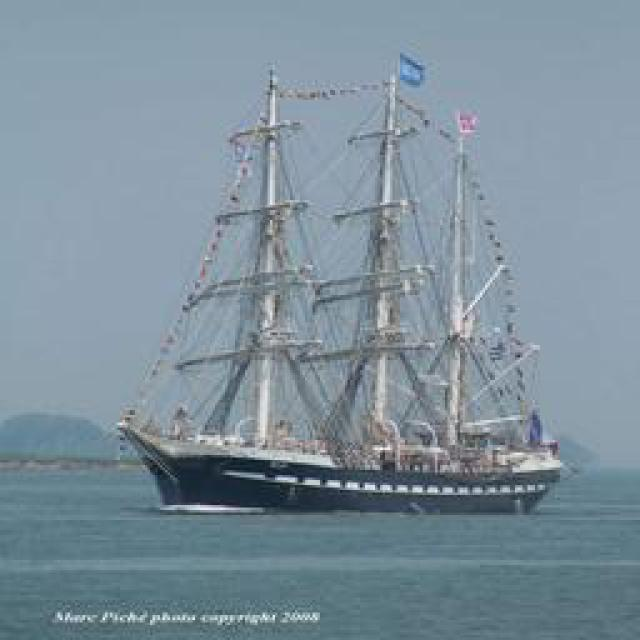Ship: (121, 52, 554, 505)
